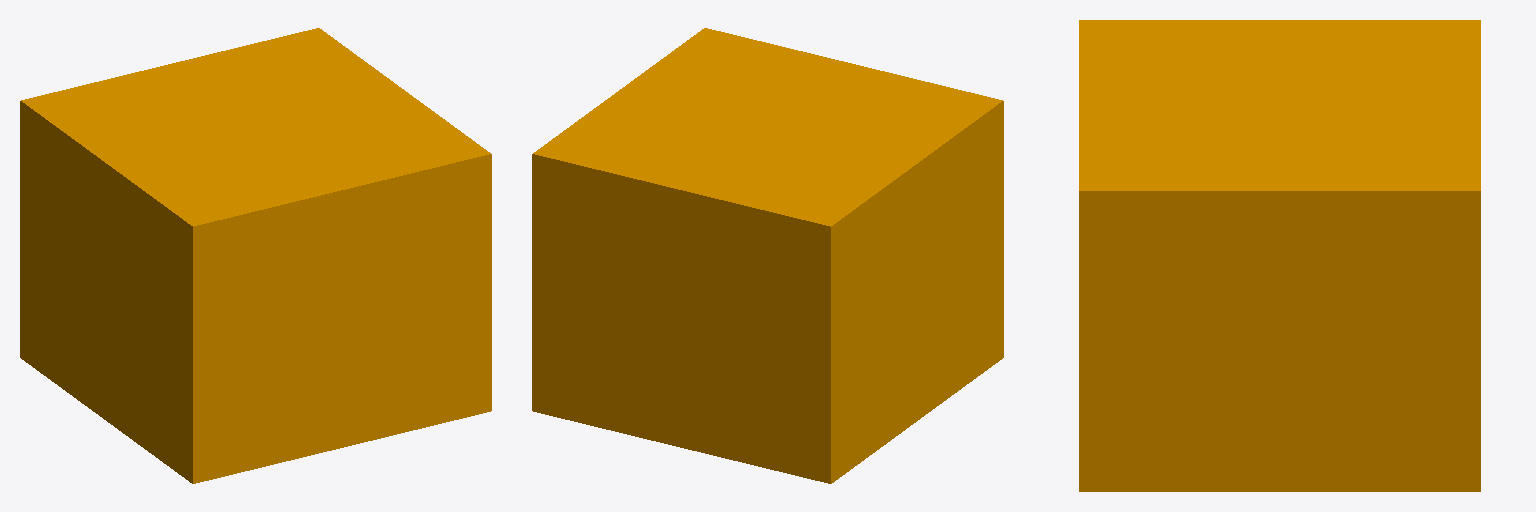
The robot description file, URDF, robot "object":
<?xml version="1.0"?>
<!-- Auto-generated by tools/gen_primitive_objects.py. kind=box dims=(0.072952, 0.072952, 0.060128) -->
<robot name="object">
  <link name="object">
    <visual>
      <origin xyz="0 0 0"/>
      <geometry>
        <box size="0.072952 0.072952 0.060128"/>
      </geometry>
    </visual>
    <collision>
      <origin xyz="0 0 0"/>
      <geometry>
        <box size="0.072952 0.072952 0.060128"/>
      </geometry>
    </collision>
    <inertial>
      <mass value="0.064000"/>
      <inertia ixx="0.00004767" ixy="0.0" ixz="0.0" iyy="0.00004767" iyz="0.0" izz="0.00005677"/>
    </inertial>
  </link>
</robot>

--- Facts derived from the render (not from the file) ---
The picture shows the robot from 3 angles, left to right: view 1: azimuth 30°, elevation 25°; view 2: azimuth 150°, elevation 25°; view 3: azimuth 270°, elevation 25°; orthographic projection.
Robot: object — 1 links, 0 joints (none); root link object; default pose: all joints at 0.
Links seen in each view (by area): view 1: object; view 2: object; view 3: object.
Boxes of the visible links, x1=… form: object: x1=20, y1=28, x2=491, y2=483; object: x1=532, y1=28, x2=1003, y2=483; object: x1=1079, y1=20, x2=1480, y2=491.
Bounding box of the posed robot: 0.073 × 0.073 × 0.0601 m (x, y, z).
Geometry: primitives only (box / cylinder / sphere), no mesh files.
